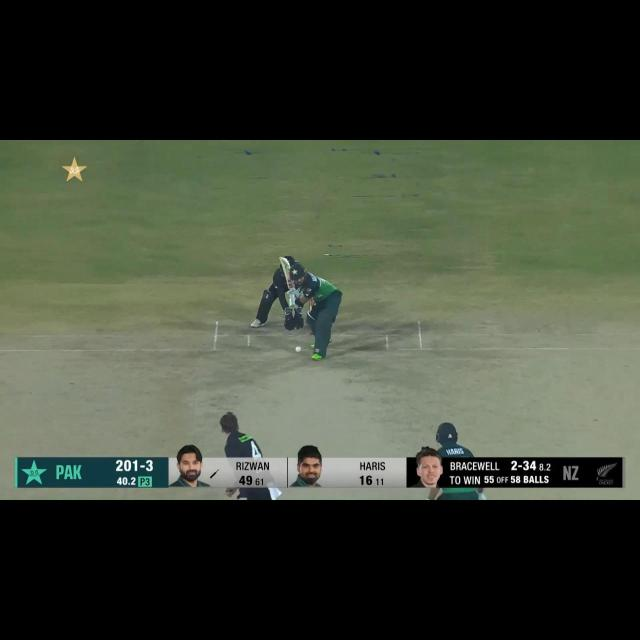bat: (278, 253, 296, 290)
toe: (277, 253, 288, 264)
